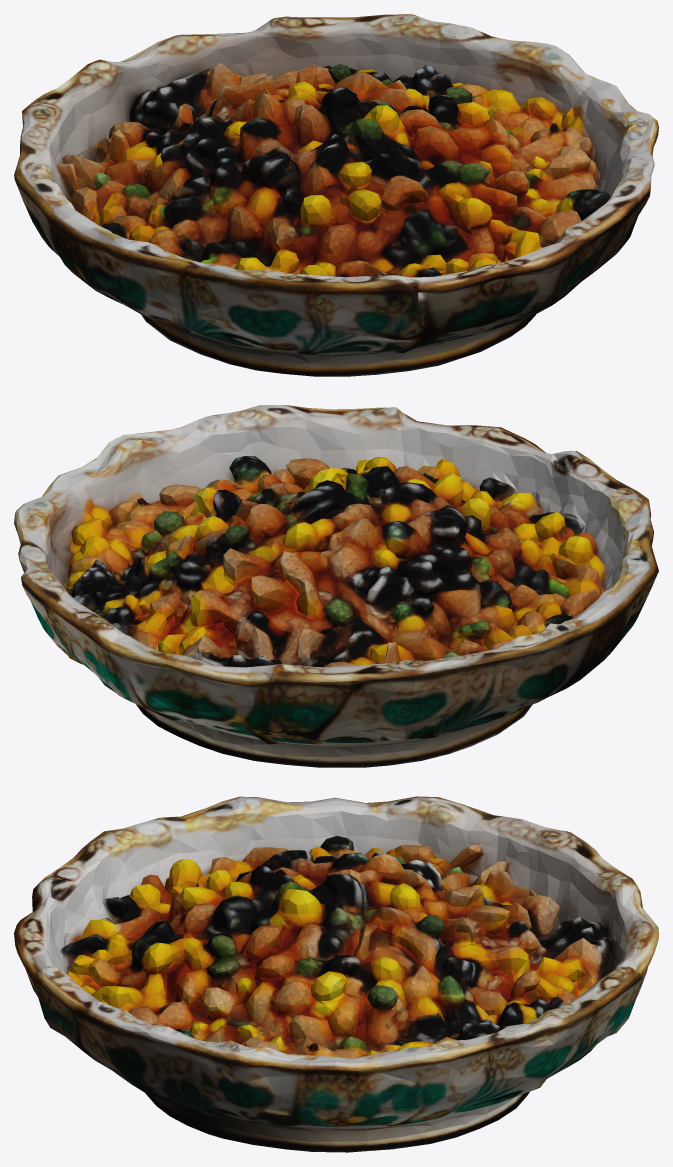
Rendered from porcelain-caviar-dish-art-deco.jpeg.glb.
3 renders of one model, top to bottom at view 1: azimuth 30°, elevation 25°; view 2: azimuth 150°, elevation 25°; view 3: azimuth 270°, elevation 25°, orthographic.
Visible parts, largest first — view 1: world; view 2: world; view 3: world.
Boxes of the visible parts, left/top/right/bottom form: world: left=14, top=14, right=658, bottom=376; world: left=14, top=405, right=658, bottom=767; world: left=14, top=796, right=658, bottom=1152.
Bounding box in the file's own units: 0.991 × 0.3337 × 1.
Materials: 1 (1 with a texture image).
